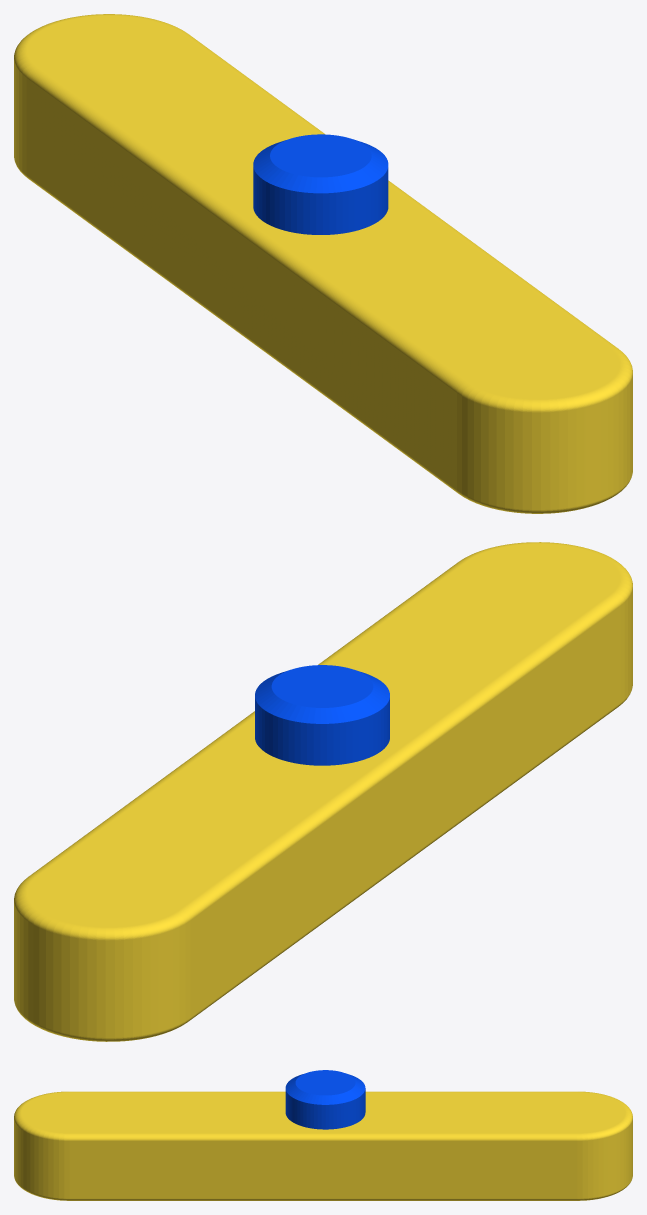
Rendered from boop_paddle.fbx.
The picture shows the model from 3 angles, top to bottom: view 1: azimuth 30°, elevation 25°; view 2: azimuth 150°, elevation 25°; view 3: azimuth 270°, elevation 25°; orthographic projection. The views are drawn at different scales.
Visible parts, largest first — view 1: Paddle, Button; view 2: Paddle, Button; view 3: Paddle, Button.
Part boxes in pixels (x1,y1,x2,y2): Paddle: [14, 14, 632, 513]; Button: [253, 134, 388, 234]; Paddle: [14, 542, 632, 1041]; Button: [255, 665, 389, 765]; Paddle: [14, 1091, 632, 1200]; Button: [285, 1070, 365, 1129].
Size of the model in its own units: 25.17 by 23.97 by 139.
